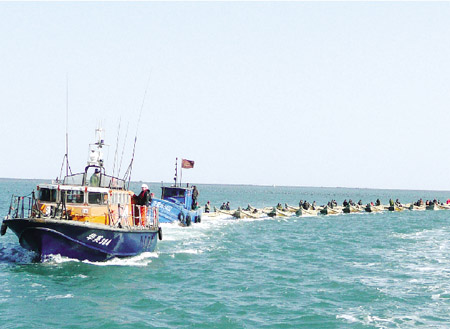otherboat: (6, 146, 163, 263), (141, 168, 208, 227)
